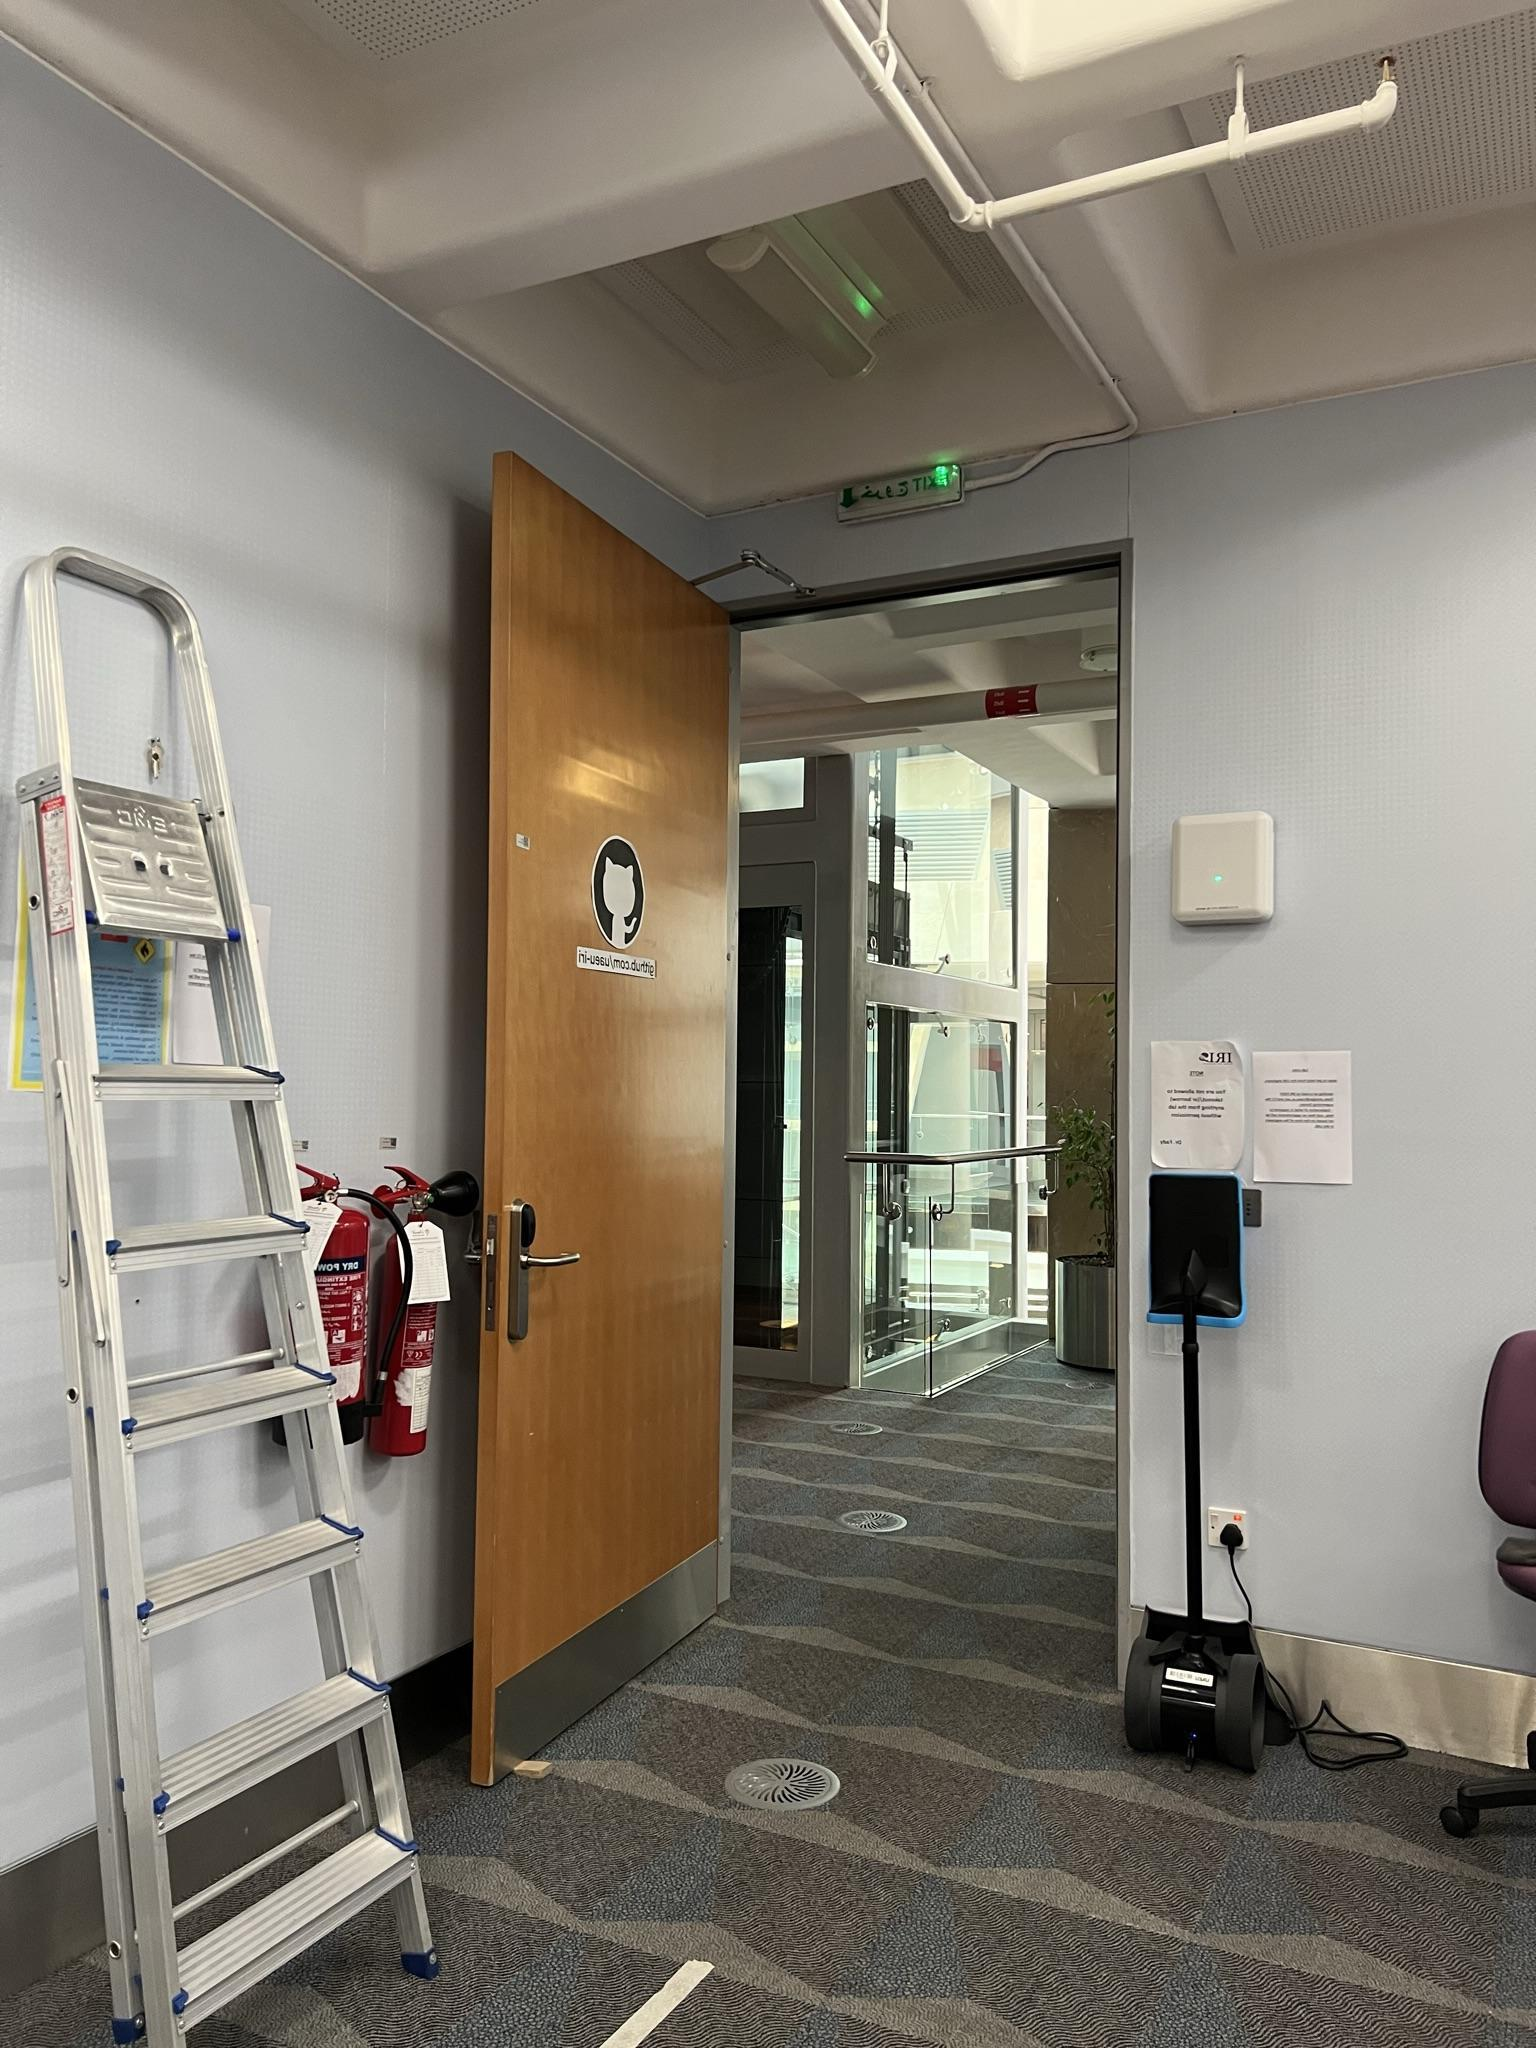door: (463, 526, 753, 1755)
handle: (479, 1197, 594, 1358)
